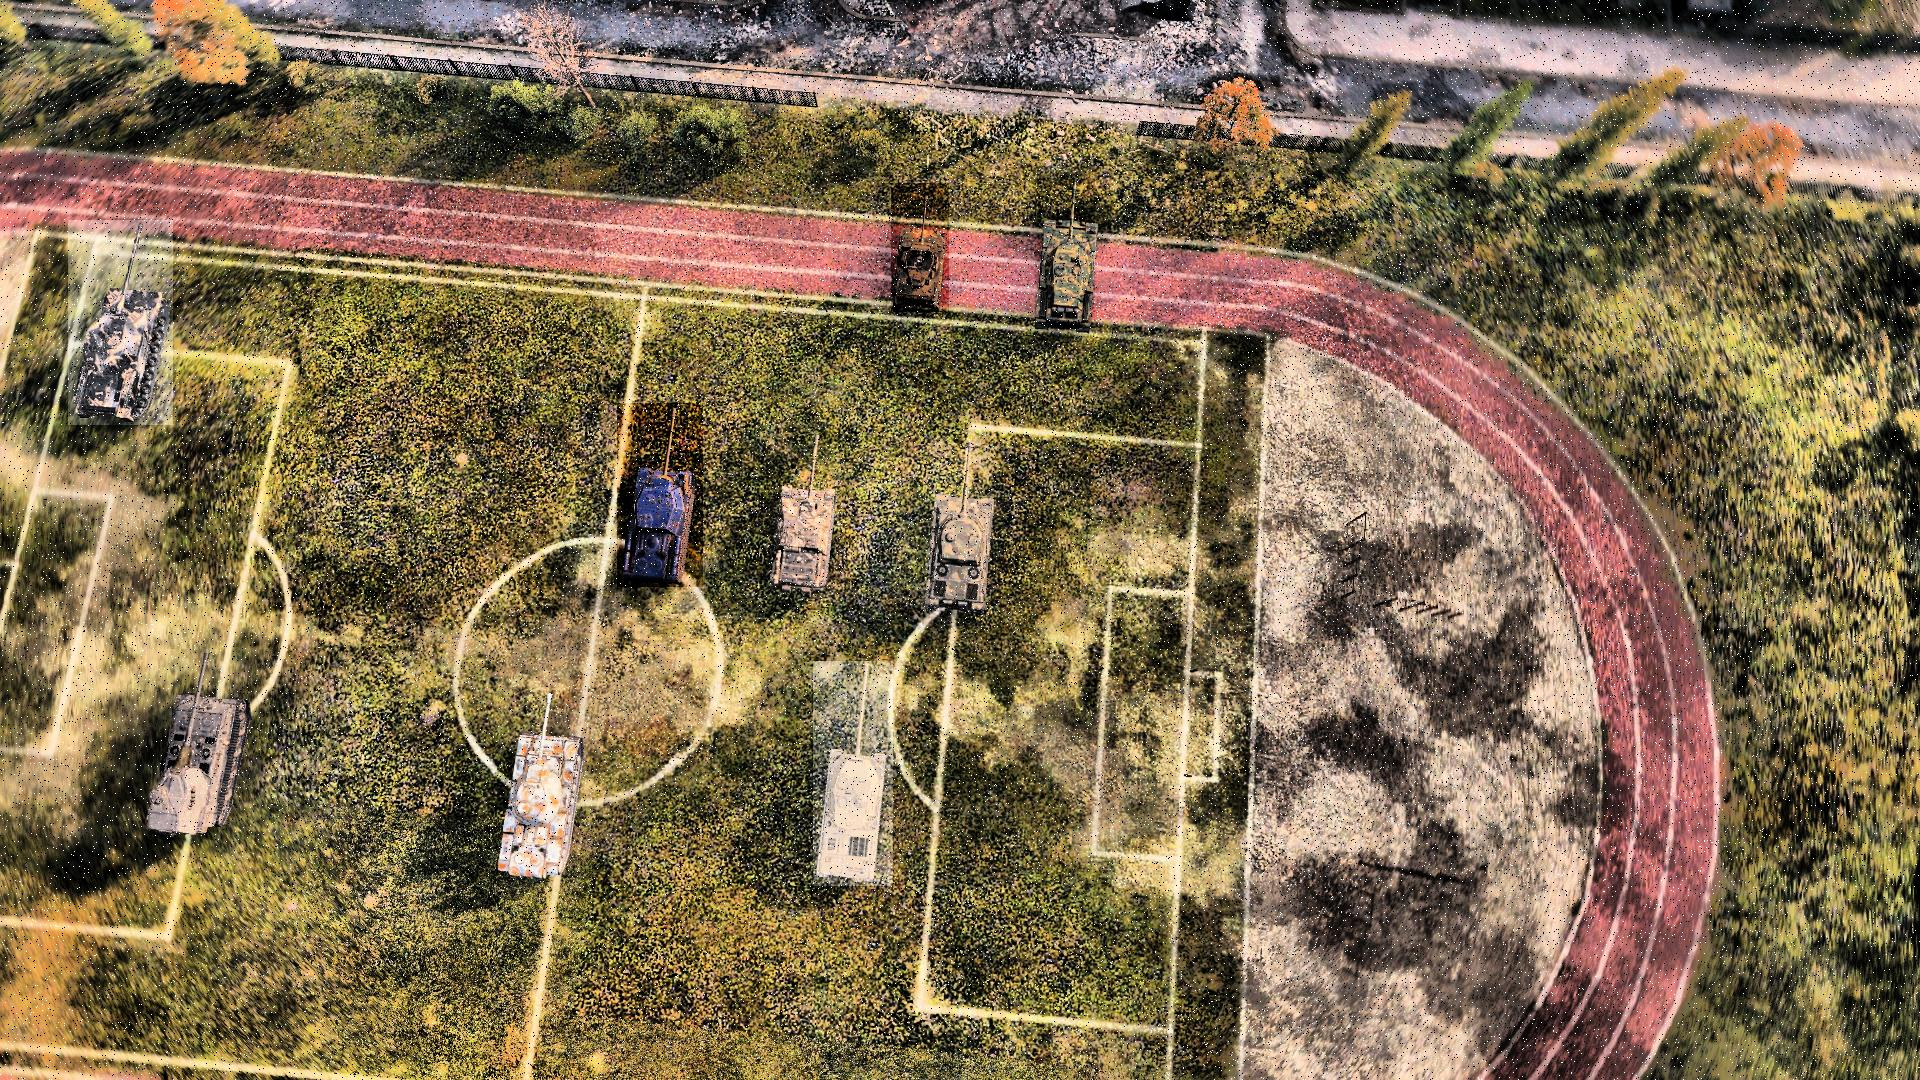military-vehicle: (69, 220, 173, 425), (148, 650, 248, 837), (814, 662, 893, 886), (498, 694, 589, 878), (617, 404, 703, 587), (770, 435, 845, 597), (926, 443, 998, 611), (1035, 178, 1095, 328), (891, 183, 949, 311)
